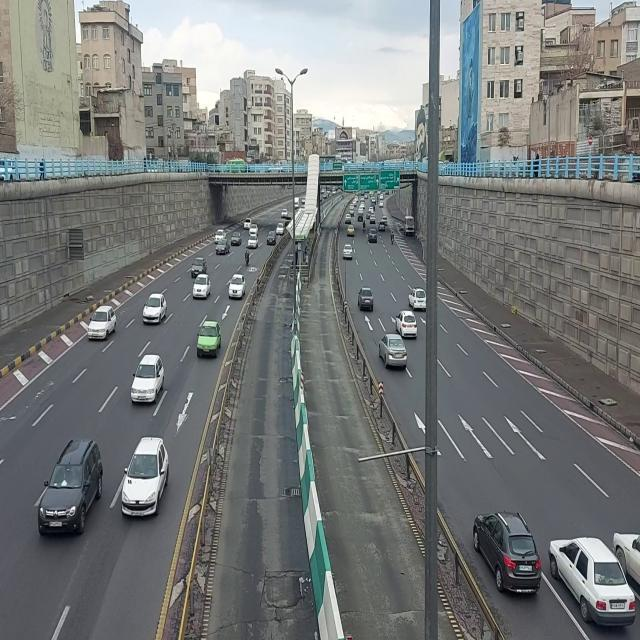Car: (549, 535, 638, 631), (37, 436, 106, 542), (469, 508, 544, 600), (121, 433, 170, 523), (131, 354, 169, 410), (86, 308, 120, 342), (377, 333, 409, 369), (196, 320, 222, 362), (143, 292, 167, 326), (395, 308, 419, 339), (408, 285, 429, 313), (357, 285, 376, 315), (192, 274, 212, 300), (229, 274, 247, 300), (190, 253, 208, 279), (216, 239, 230, 257), (231, 230, 243, 247), (248, 234, 260, 250), (267, 231, 278, 247), (342, 243, 353, 259), (367, 228, 377, 244), (275, 221, 285, 235), (249, 223, 260, 235), (216, 230, 227, 241), (243, 217, 251, 229), (347, 225, 355, 237), (281, 208, 289, 219), (378, 221, 386, 231), (345, 213, 352, 224), (369, 214, 376, 224), (357, 213, 364, 223), (349, 207, 355, 215), (358, 206, 364, 214), (379, 200, 385, 208), (352, 200, 357, 208)
Motorcycle: (245, 244, 250, 267), (391, 231, 395, 245), (362, 220, 366, 234), (376, 195, 378, 203)
Pickup: (295, 196, 301, 211)
